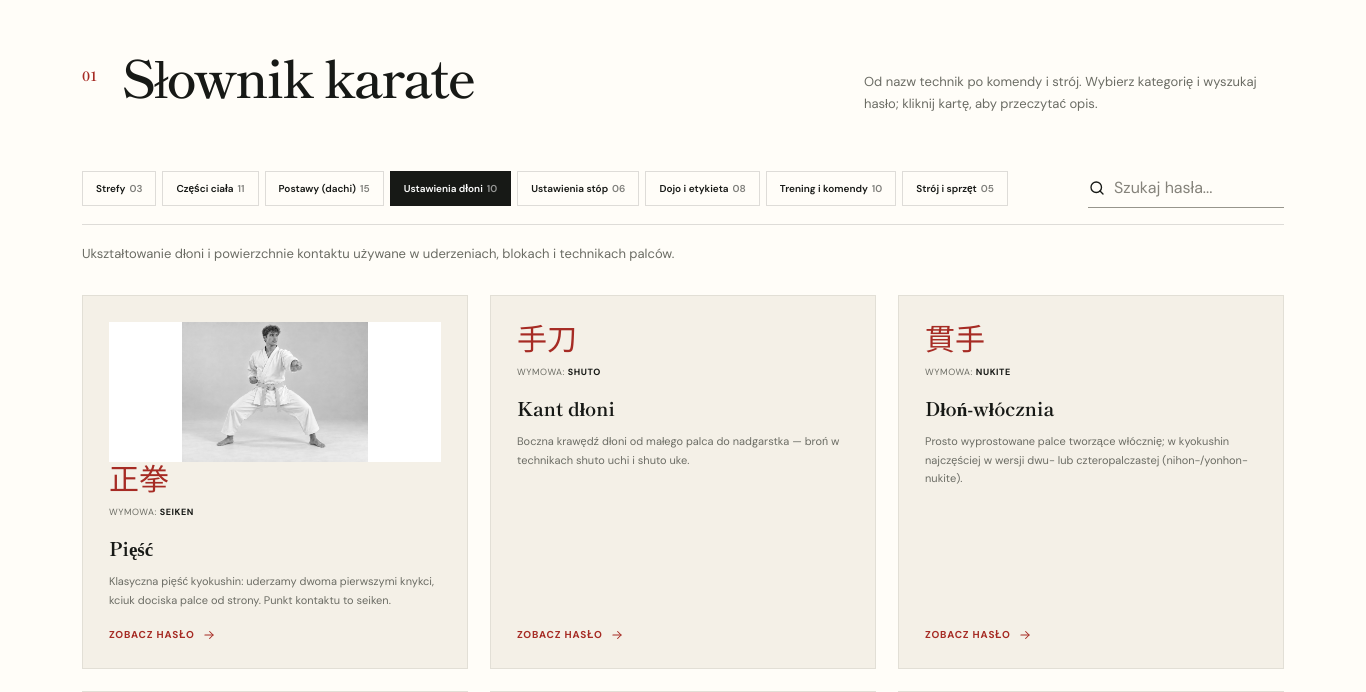
Test: GlossaryPage › pokazuje nowe kategorie dłoni i stóp jako klikalne
This screenshot has width=1366, height=692.
Check: the button "Ustawienia dłoni10" is shown, box [390,171,511,206]
Check: the button with aria-label "Otwórz hasło Pięść" is shown, box [82,295,468,670]
Click the button "Ustawienia stóp06" at (578, 188), box [517,171,639,206]
(page scrolled)
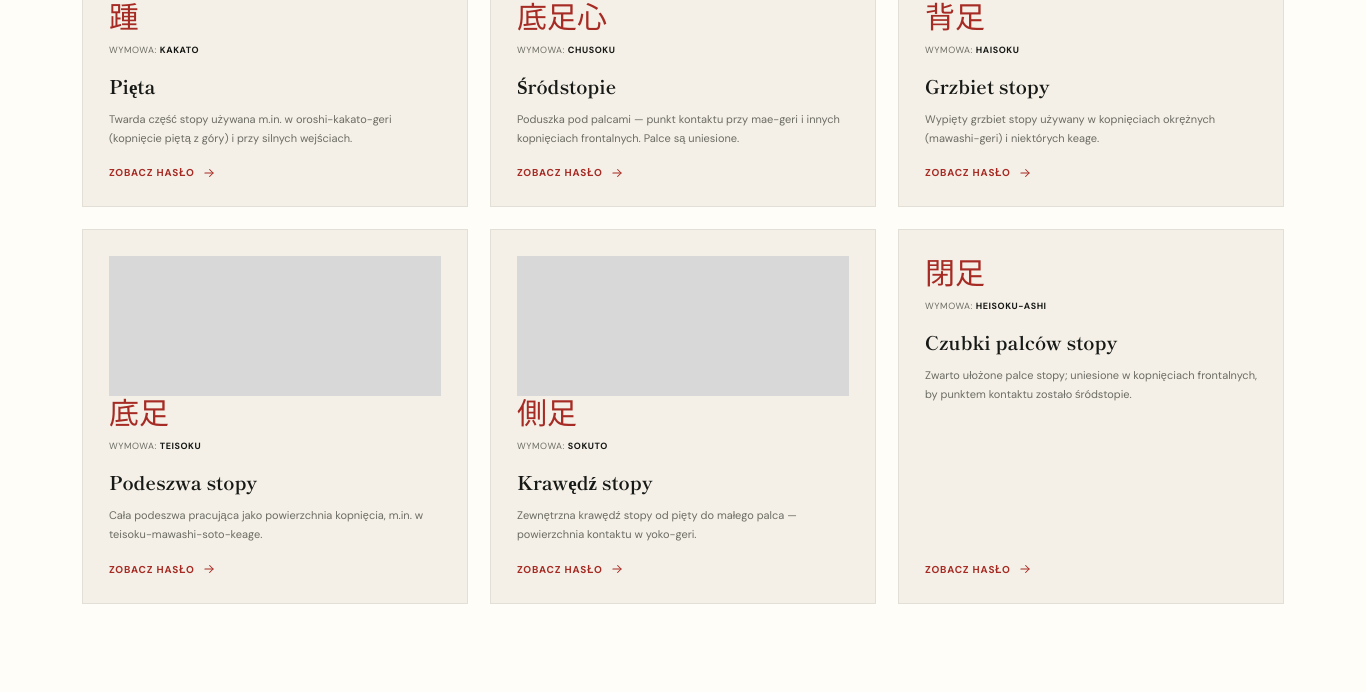
Check: the button with aria-label "Otwórz hasło Krawędź stopy" is shown, box [490,230,876,604]
